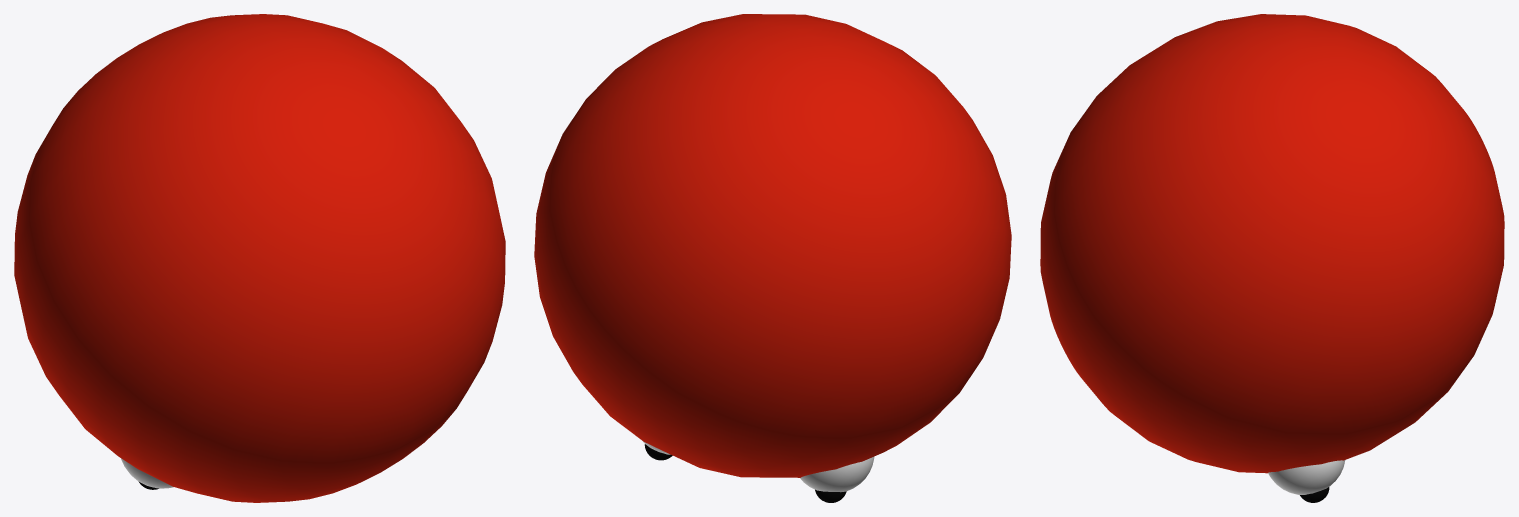
Rendered from gegner1.fbx.
3 renders of one model, left to right at view 1: azimuth 30°, elevation 25°; view 2: azimuth 150°, elevation 25°; view 3: azimuth 270°, elevation 25°, orthographic. The views are drawn at different scales.
Parts seen in each view (by area): view 1: Sphere.004; view 2: Sphere.004; view 3: Sphere.004.
Boxes of the visible parts, x1,y1,x2,y2 form: Sphere.004: (14,14,505,502); Sphere.004: (534,14,1011,502); Sphere.004: (1040,14,1504,502).
Bounding box in the file's own units: 100 × 100 × 100.
